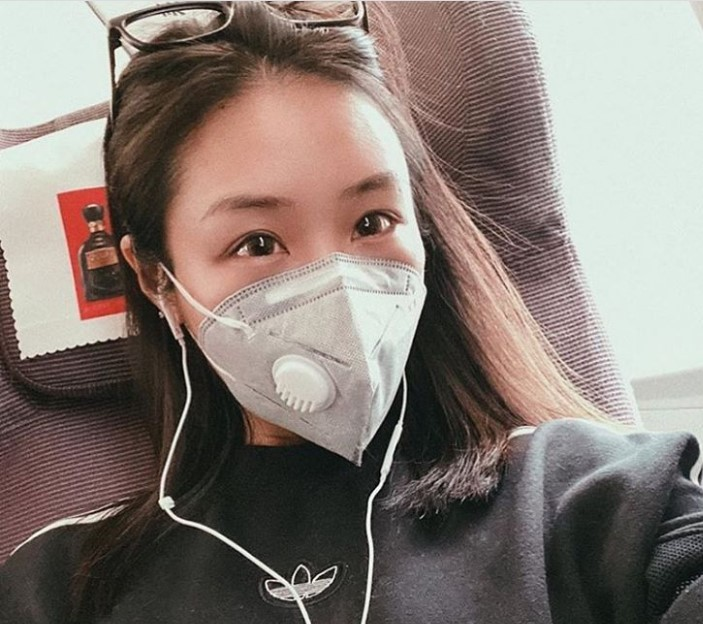face_with_mask: (116, 57, 441, 473)
